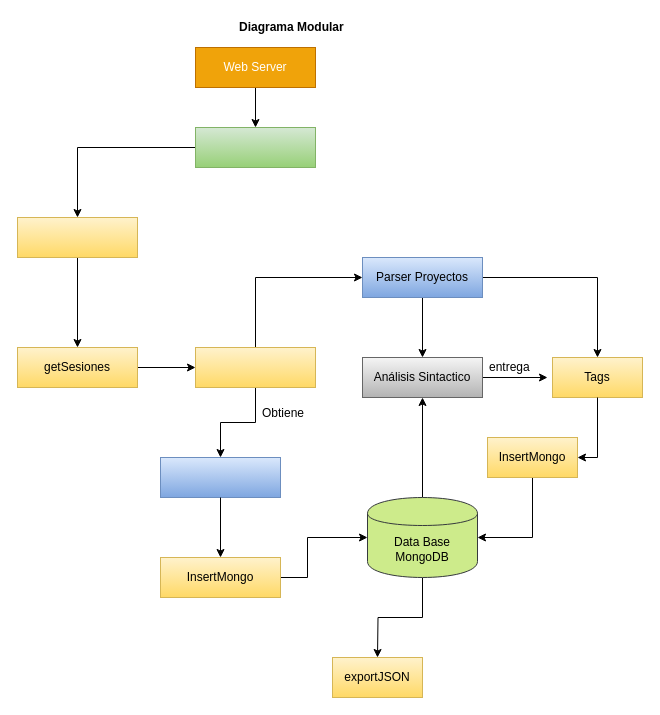
This 660x715 diagram has some shape labels left out. Here are the shapes that lost their labels. From the top down, the centre of each, then its label:
At [255,147]: "Scrapper".
At [77,237]: "getLegislatura".
At [255,367]: "Parser Boletín".
At [220,477]: "Parser Materia".
